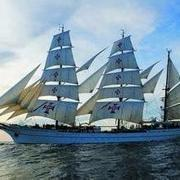fanchuan: (1, 28, 180, 146)
